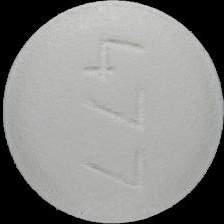60760-251: (0, 0, 224, 224)
